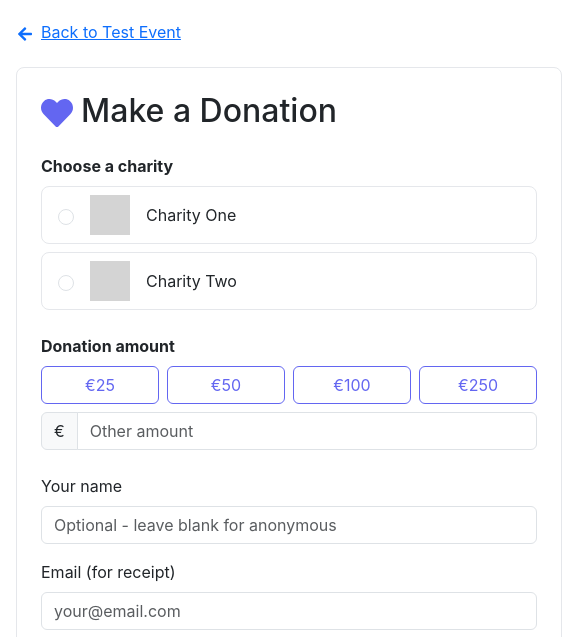
Test: DonationForm › shows error from API on submit failure
The image size is (579, 637).
Fill form
Click the text "Charity One" at point(191, 215), box 146,203 -> 236,227
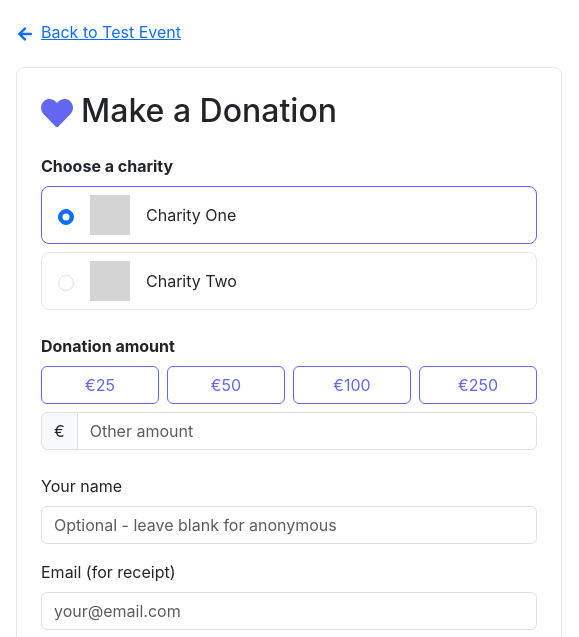
Click the button "€50" at point(226, 385), box 167,366 -> 285,404
(page scrolled)
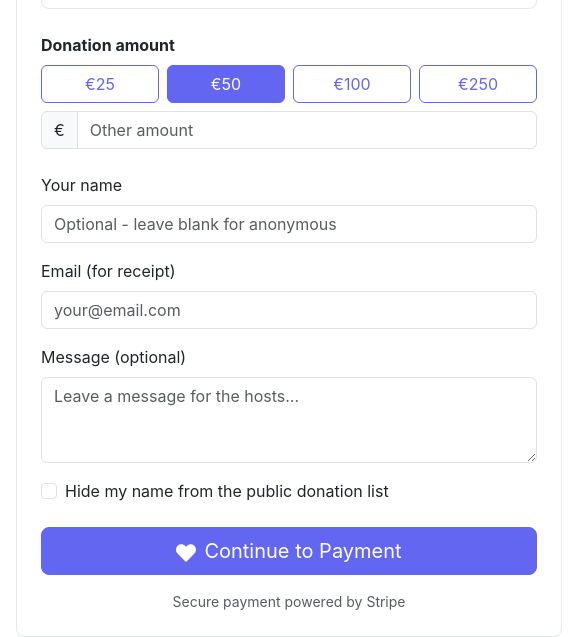
Click the button "Continue to Payment" at point(289, 551), box 41,527 -> 537,575
(page scrolled)
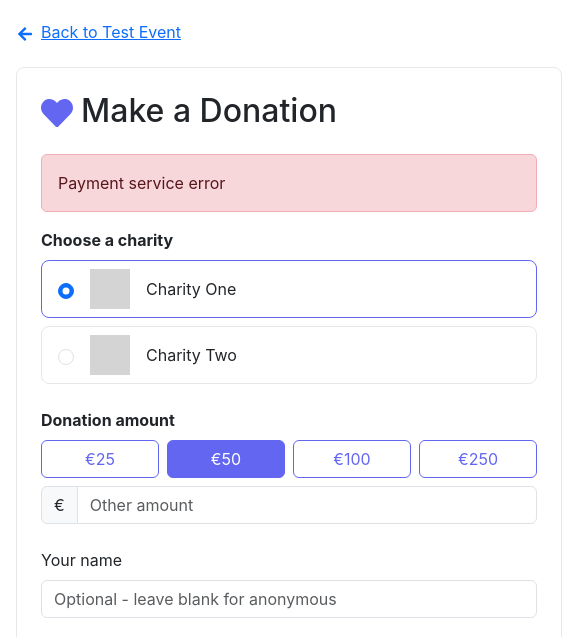
Check: the text "Payment service error" is shown, box 41,154 -> 537,212
